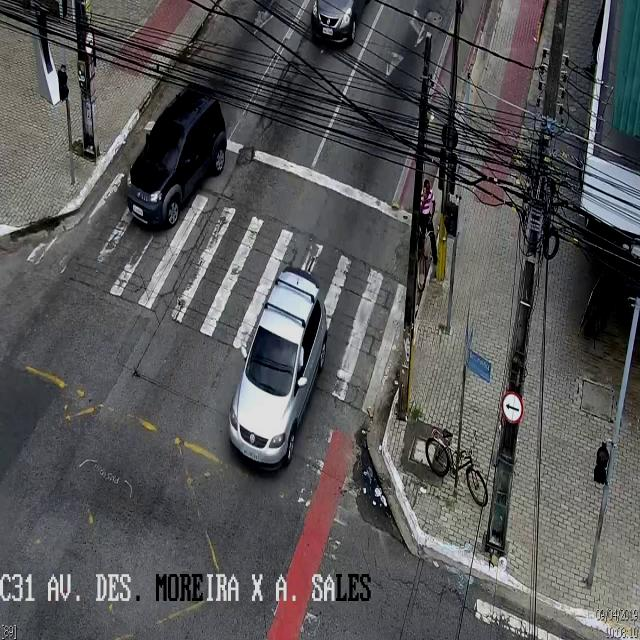Car: (228, 266, 326, 468), (125, 84, 227, 230), (305, 0, 377, 48)
